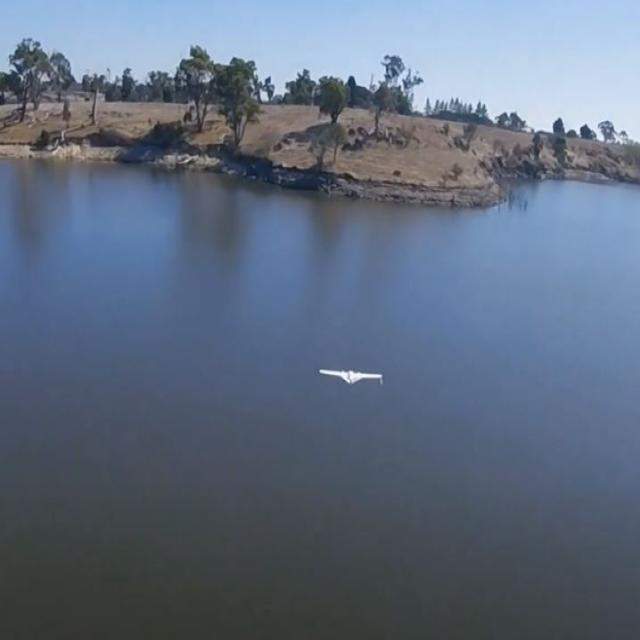iha: (348, 367, 353, 387)
